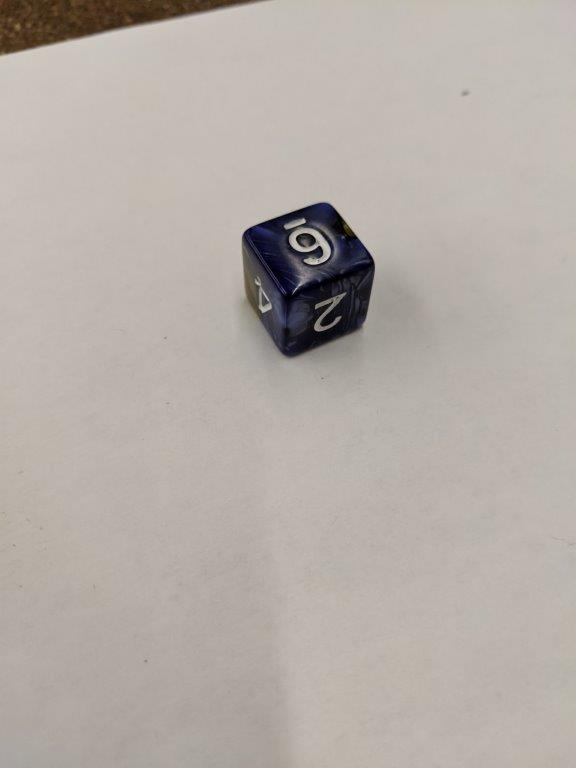d6-6: (238, 204, 373, 358)
